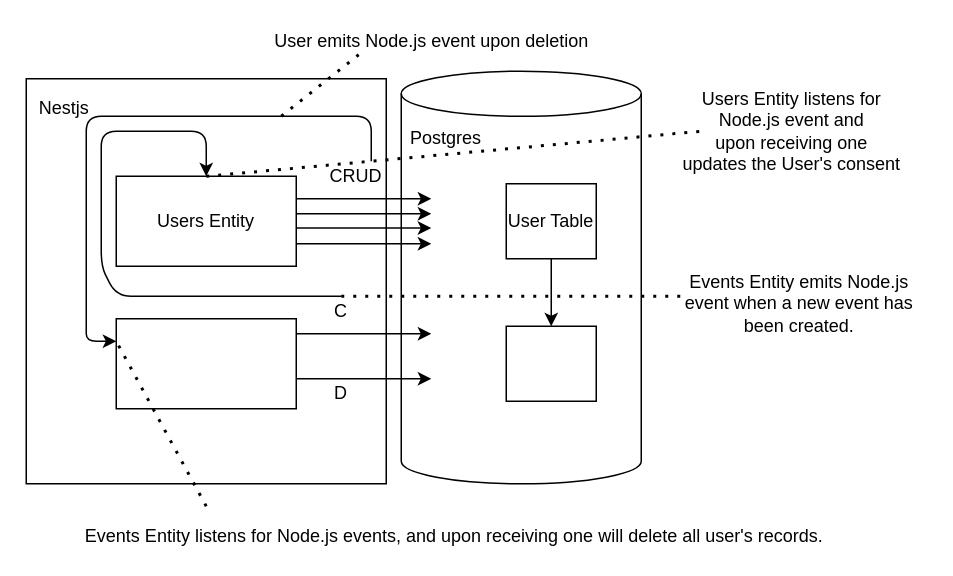
Image size: 953x576. Some labels were removed from this diagram. The centre of each missing label's shape, as x and y in pixels:
"Event Table" belongs at (550,363).
"Events Entity" belongs at (205,363).
